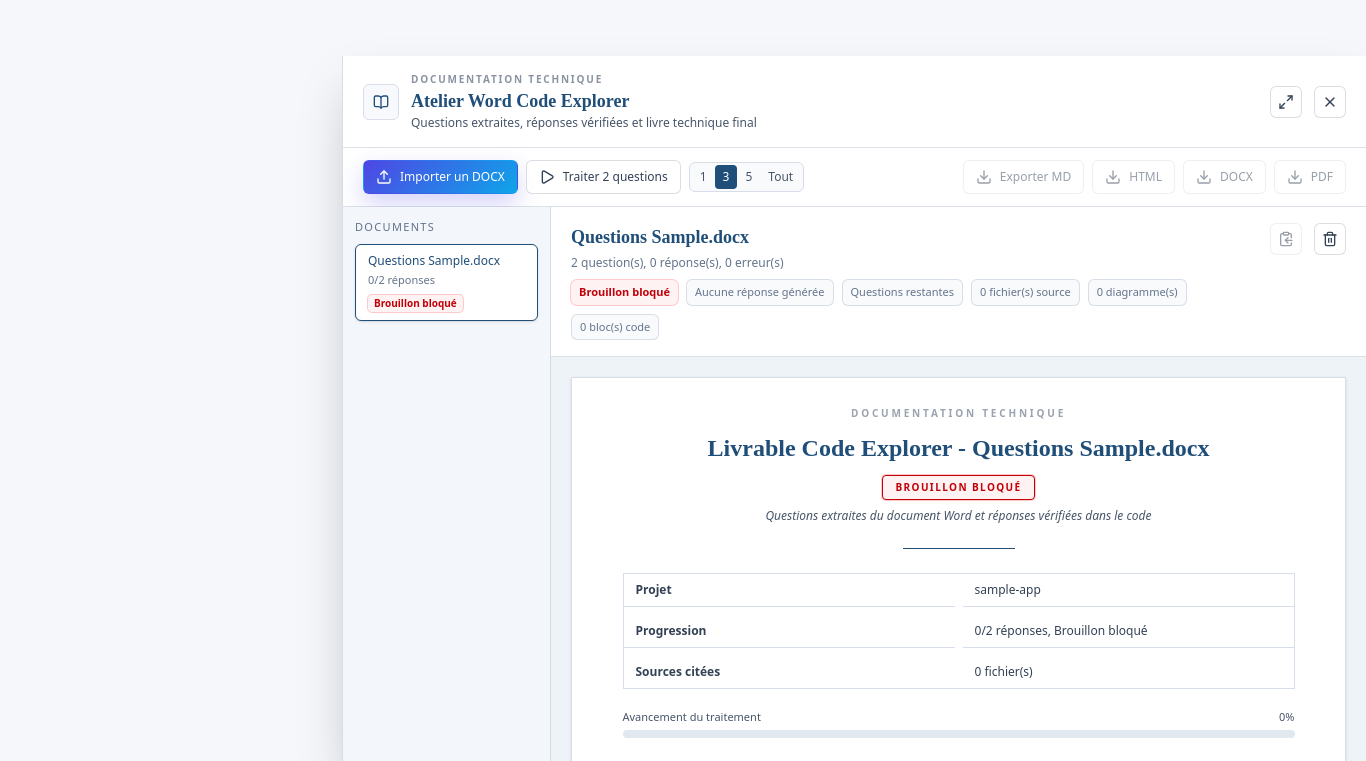
it: WorkDocumentsPanel › keeps processing remaining questions after an isolated answer failure
What coordinates should you click on to do the following:
click the button "Traiter 2 questions"
I would click on:
 (603, 177)
Its box is [526,160,681,194].
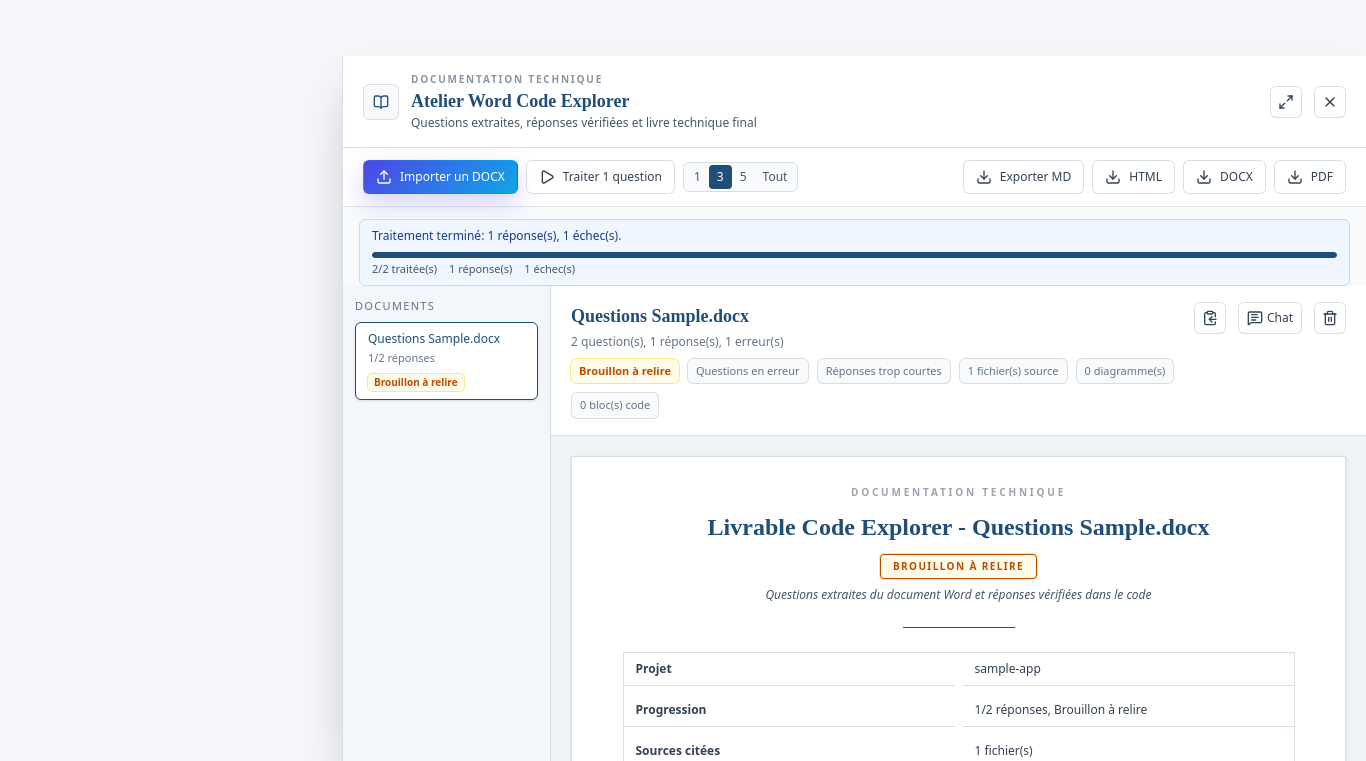
Expected: the text "Traitement terminé: 1 réponse(s), 1 échec(s)." is shown, [372,227,621,244]
